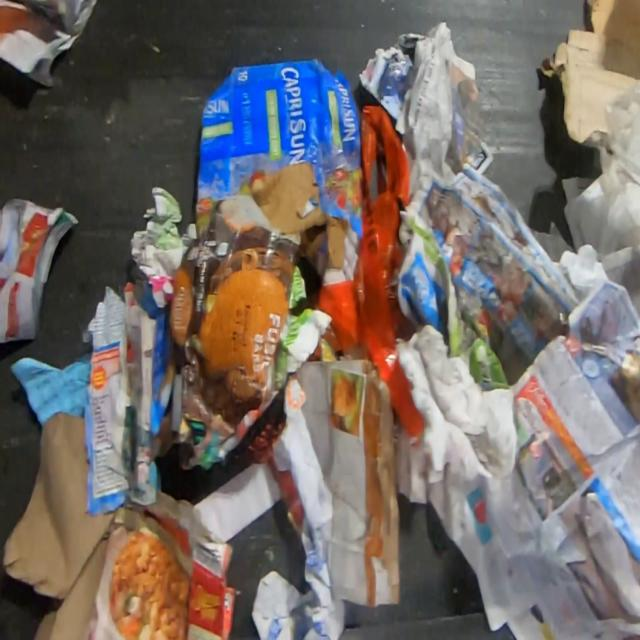cardboard: (151, 196, 300, 467), (194, 57, 362, 285), (3, 411, 117, 640), (84, 485, 236, 639), (538, 1, 640, 144)
soft_plastic: (314, 103, 426, 435), (596, 76, 640, 246)
